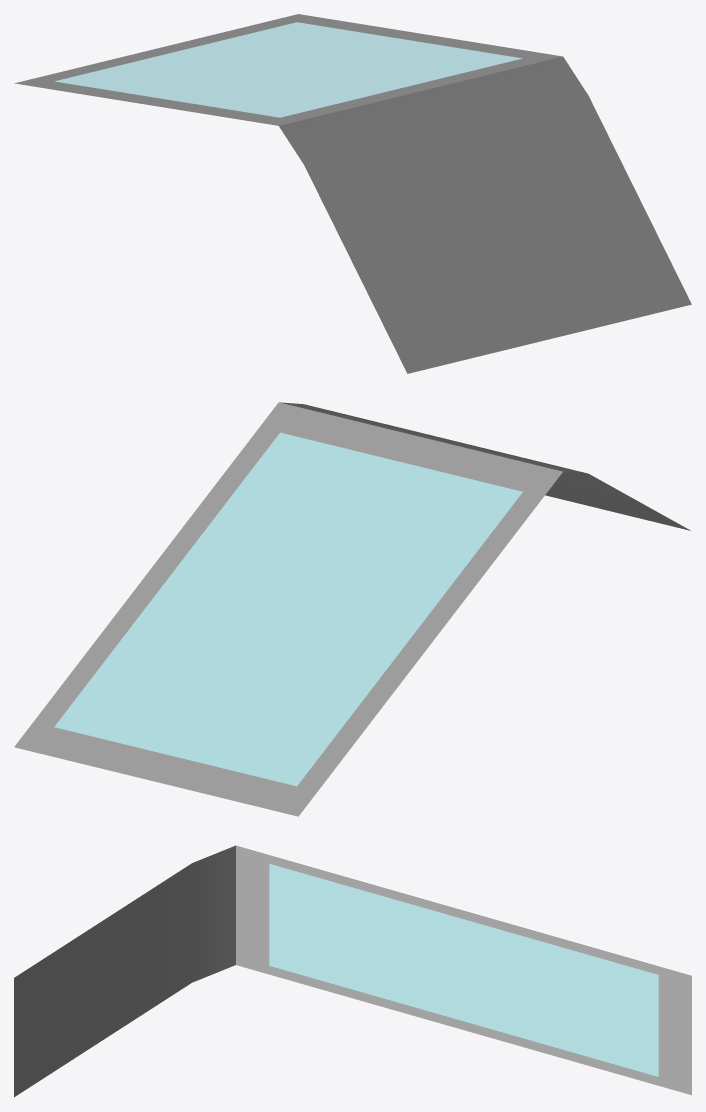
Rendered from library-face-face.fbx.
3 views of the same model, one above another, from view 1: azimuth 30°, elevation 25°; view 2: azimuth 150°, elevation 25°; view 3: azimuth 270°, elevation 25° (orthographic). The views are drawn at different scales.
Parts seen in each view (by area): view 1: pCube42; view 2: pCube42; view 3: pCube42.
Part boxes in pixels (x1,y1,x2,y2): pCube42: [14, 14, 691, 373]; pCube42: [14, 402, 690, 816]; pCube42: [14, 845, 691, 1097].
Bounding box in the file's own units: 40.9 × 21.12 × 97.98.
